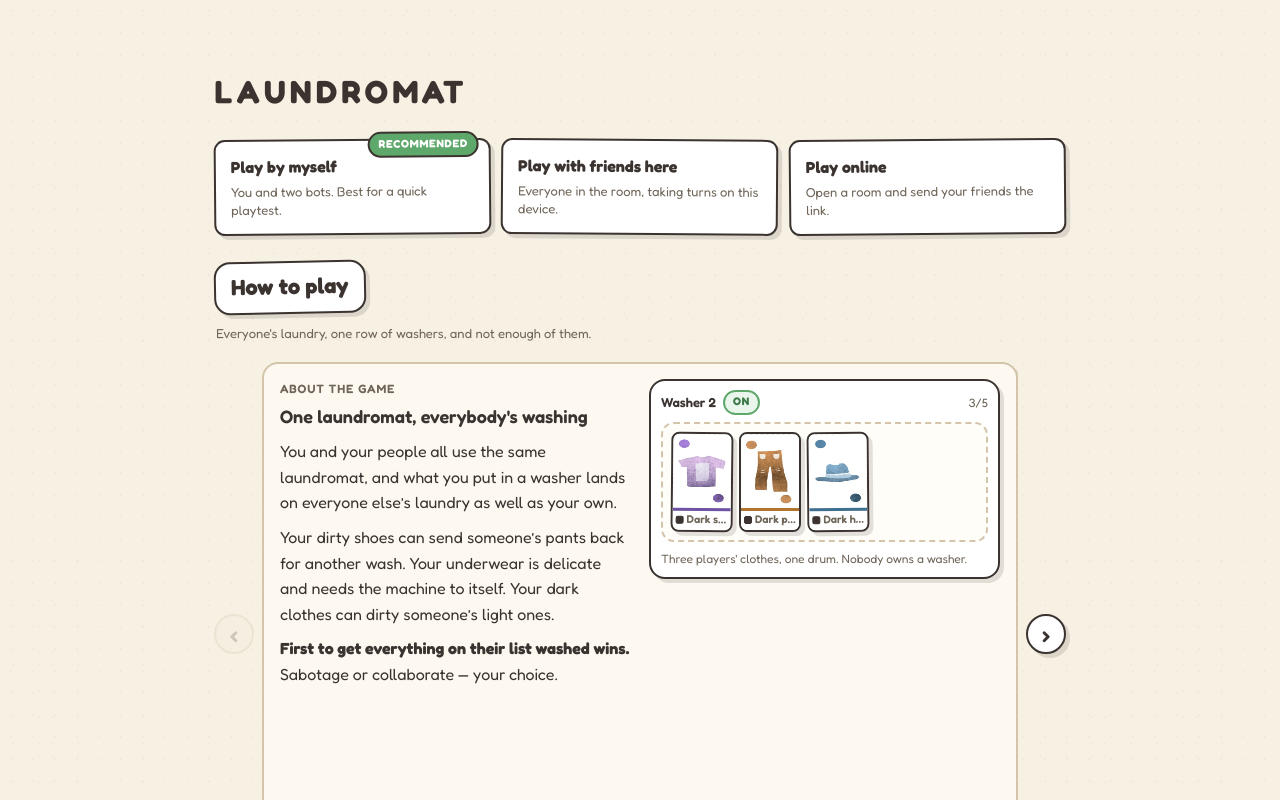
Test: UI › the setup screen offers no rule switches — only the seat count
The width and height of the screenshot is (1280, 800).
Expected: the text "Play by myself" is shown, [231,154,337,180]
Expected: the text "Play online" is shown, [805,154,886,180]
Click the text "Play with friends here" at (598, 166), box [518,153,678,179]
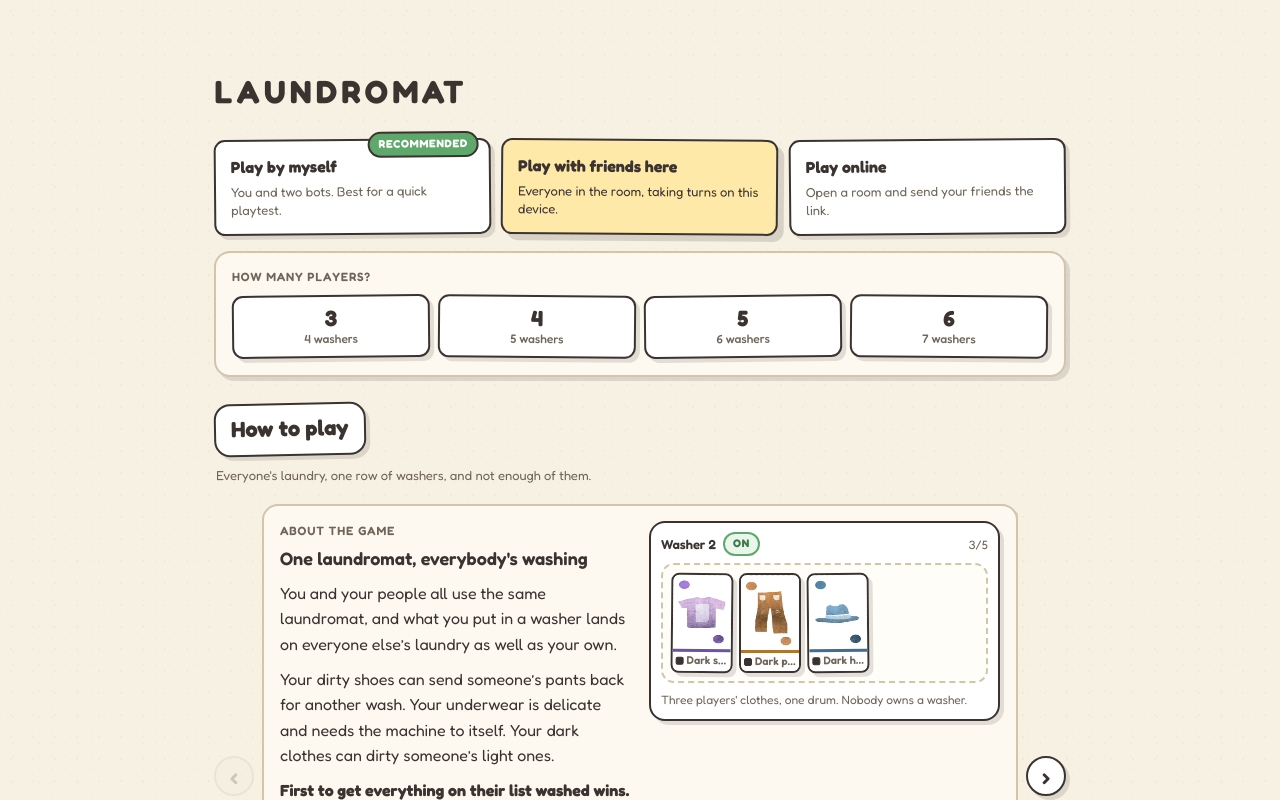
Expected: the button with aria-label "4 players" is shown, [438,294,636,359]
